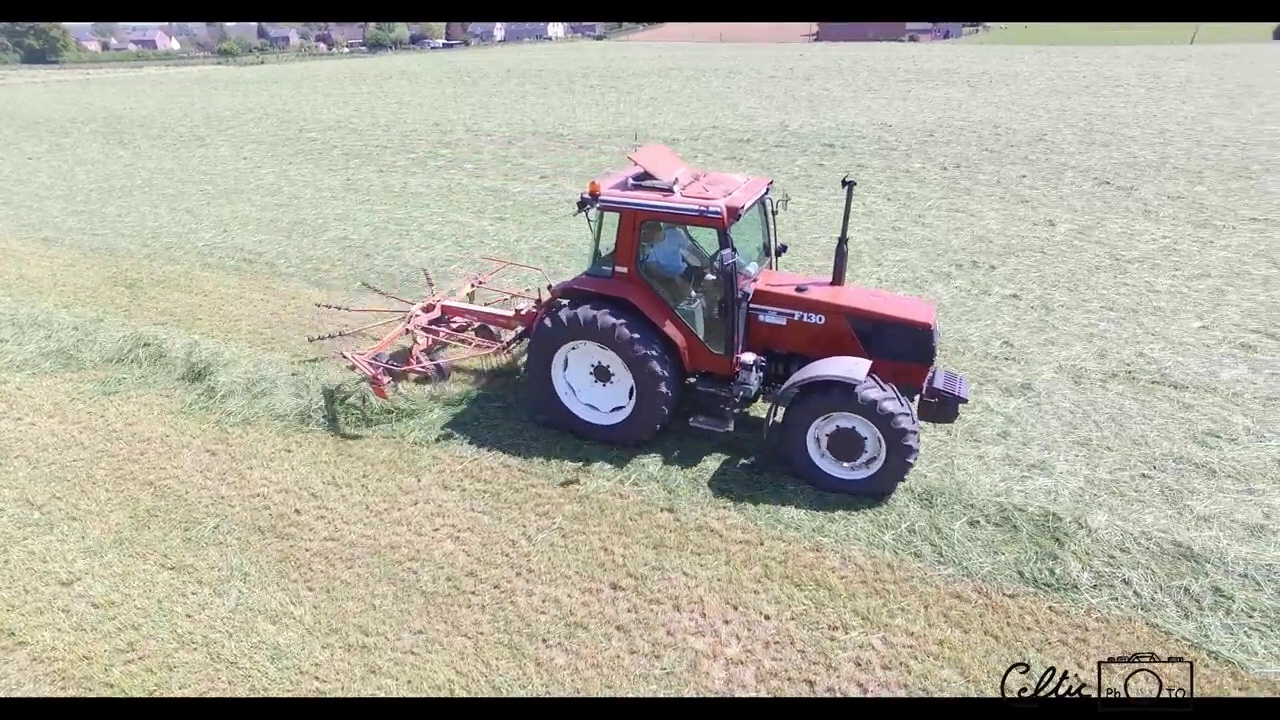traktor: (527, 142, 970, 495)
